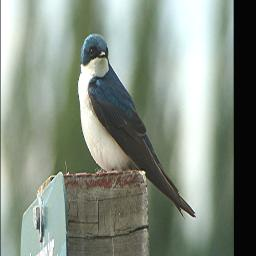Swallow: (78, 33, 197, 221)
